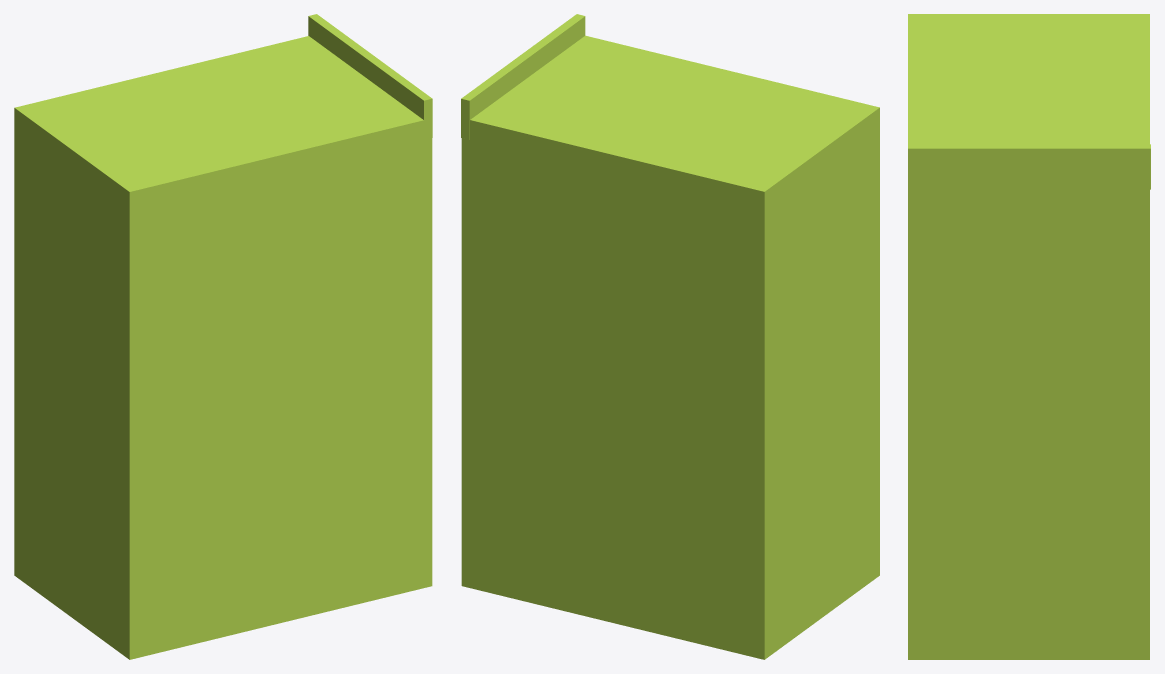
Rendered from table_cook_3_convex.fbx.
3 renders of one model, left to right at view 1: azimuth 30°, elevation 25°; view 2: azimuth 150°, elevation 25°; view 3: azimuth 270°, elevation 25°, orthographic. The views are drawn at different scales.
Visible parts, largest first — view 1: table_cook_3_convex, table_cook_3_convex.001; view 2: table_cook_3_convex, table_cook_3_convex.001; view 3: table_cook_3_convex, table_cook_3_convex.001.
Boxes of the visible parts, x1,y1,x2,y2 form: table_cook_3_convex: (14,36,432,659); table_cook_3_convex.001: (308,14,432,138); table_cook_3_convex: (461,35,879,659); table_cook_3_convex.001: (461,14,585,139); table_cook_3_convex: (908,14,1149,659); table_cook_3_convex.001: (908,144,1150,189).
Bounding box in the file's own units: 17.11 × 11.32 × 26.31.
